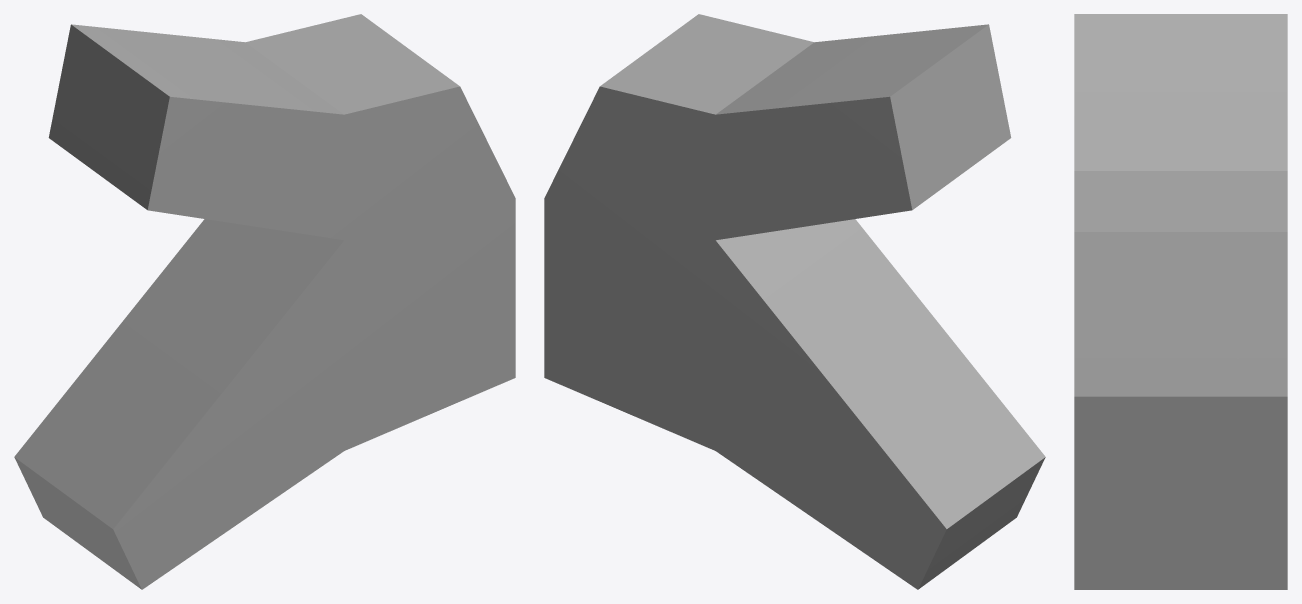
File: SniperRifle5_03_4.fbx
The picture shows the model from 3 angles, left to right: view 1: azimuth 30°, elevation 25°; view 2: azimuth 150°, elevation 25°; view 3: azimuth 270°, elevation 25°; orthographic projection. The views are drawn at different scales.
Parts seen in each view (by area): view 1: SniperRifle5_03_4; view 2: SniperRifle5_03_4; view 3: SniperRifle5_03_4.
Boxes of the visible parts, x1,y1,x2,y2 form: SniperRifle5_03_4: [14, 14, 515, 589]; SniperRifle5_03_4: [544, 14, 1045, 589]; SniperRifle5_03_4: [1074, 14, 1287, 589].
Size of the model in its own units: 0.0278 by 0.0321 by 0.0118.
